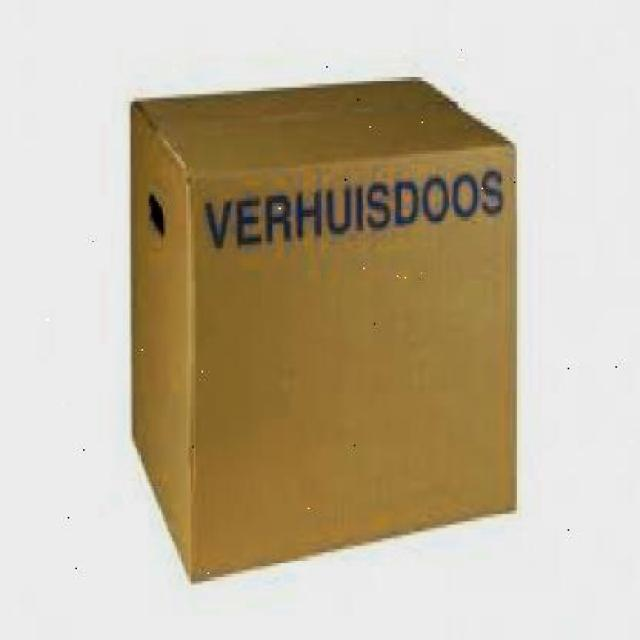box: (129, 76, 520, 586)
normal_hole: (146, 190, 166, 236)
